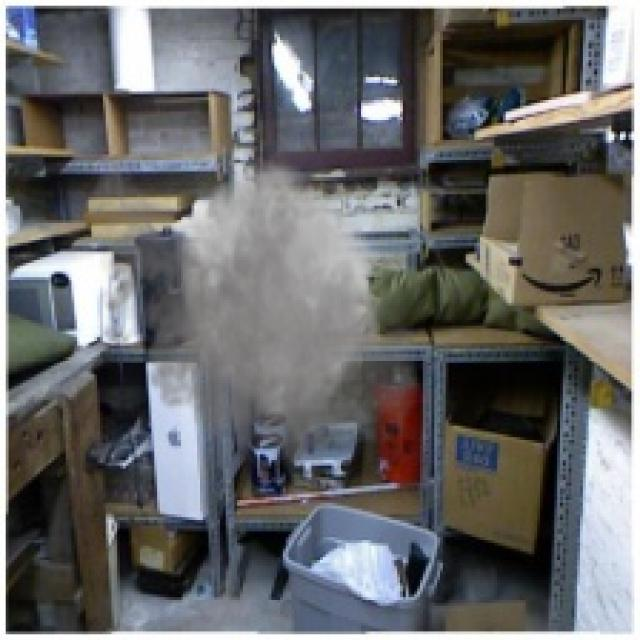smoke: (80, 91, 431, 492)
